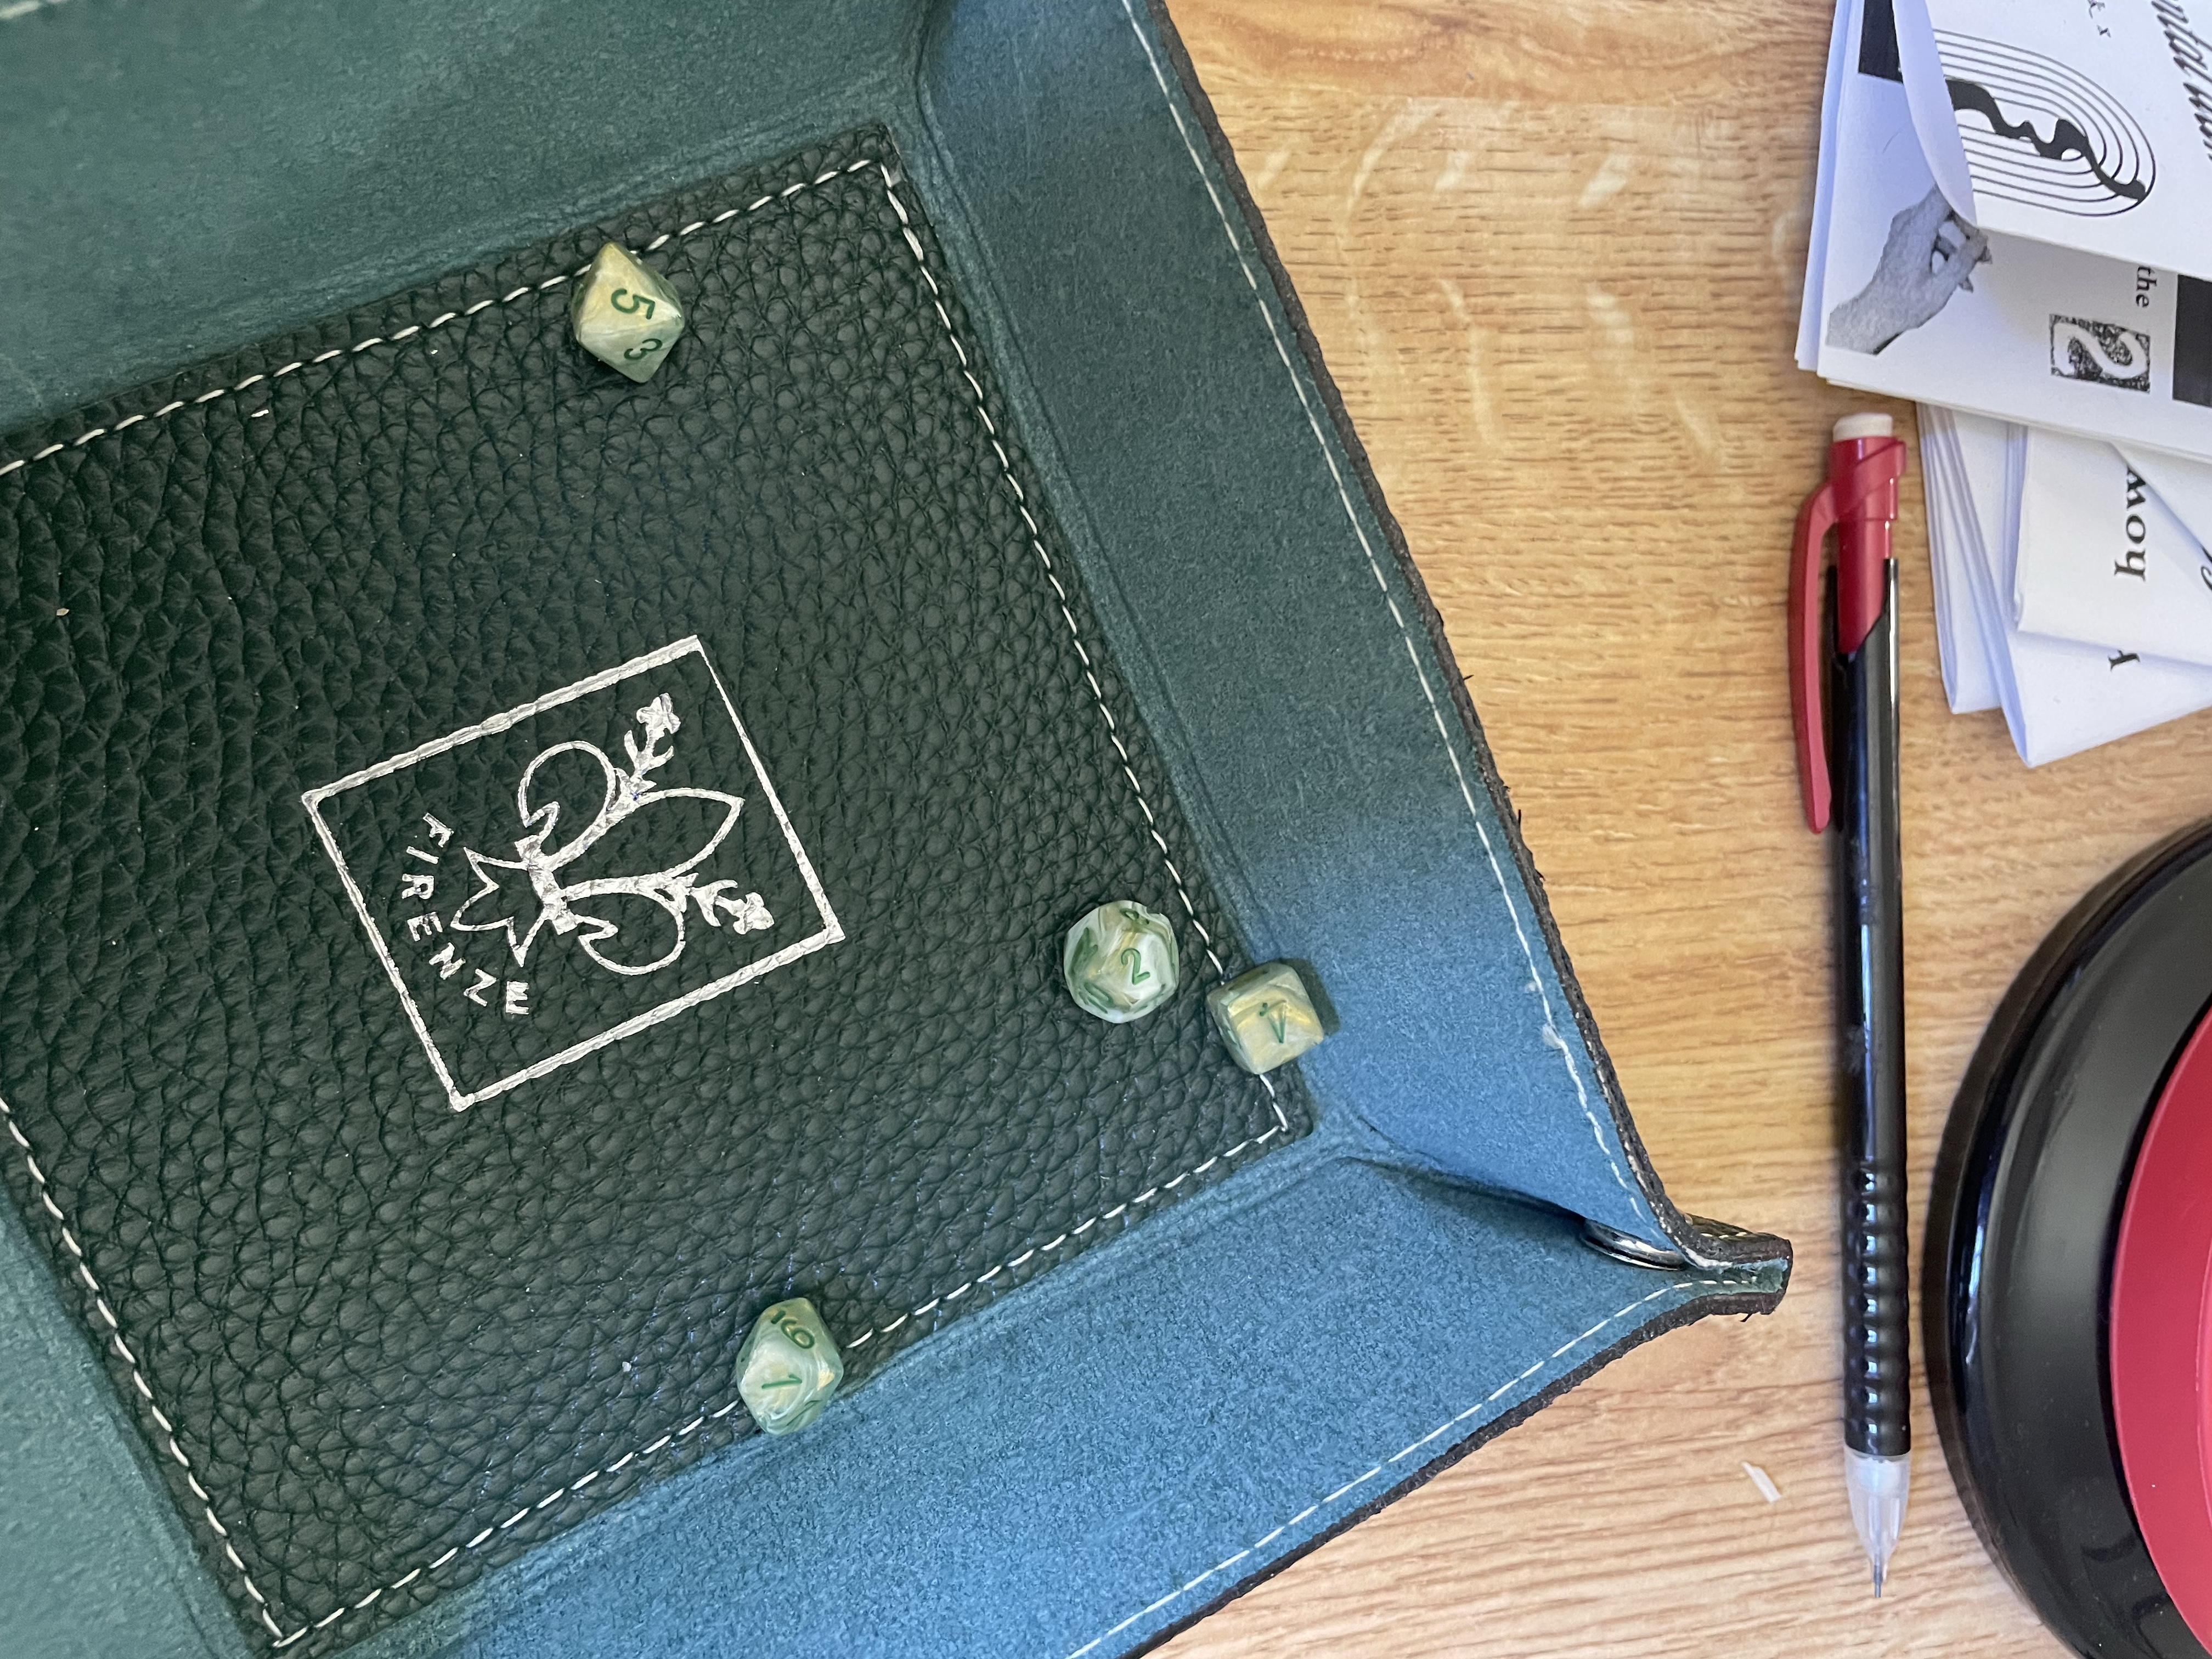five: (563, 235, 709, 392)
four: (1183, 943, 1350, 1086)
one: (711, 1270, 869, 1452)
two: (1038, 875, 1195, 1035)
